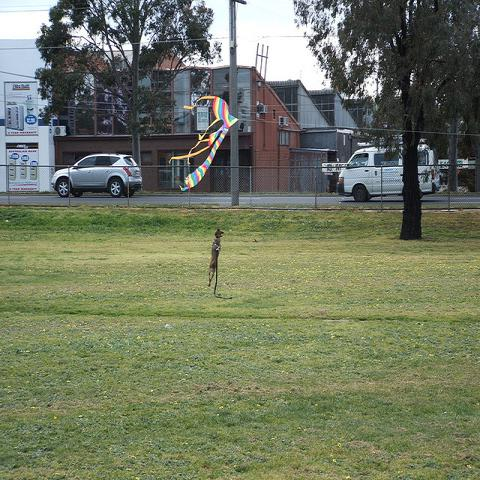car: (335, 143, 441, 205), (51, 155, 142, 198)
